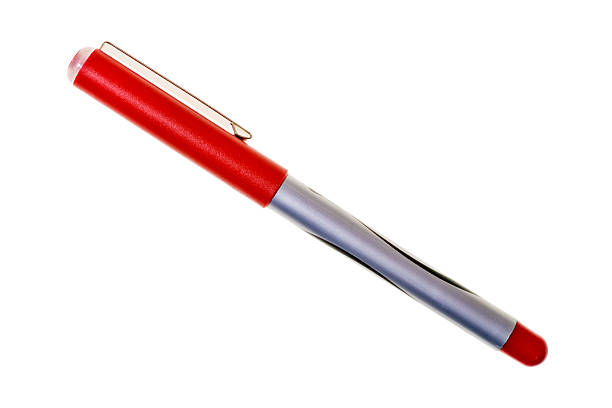pen: (60, 35, 557, 372)
